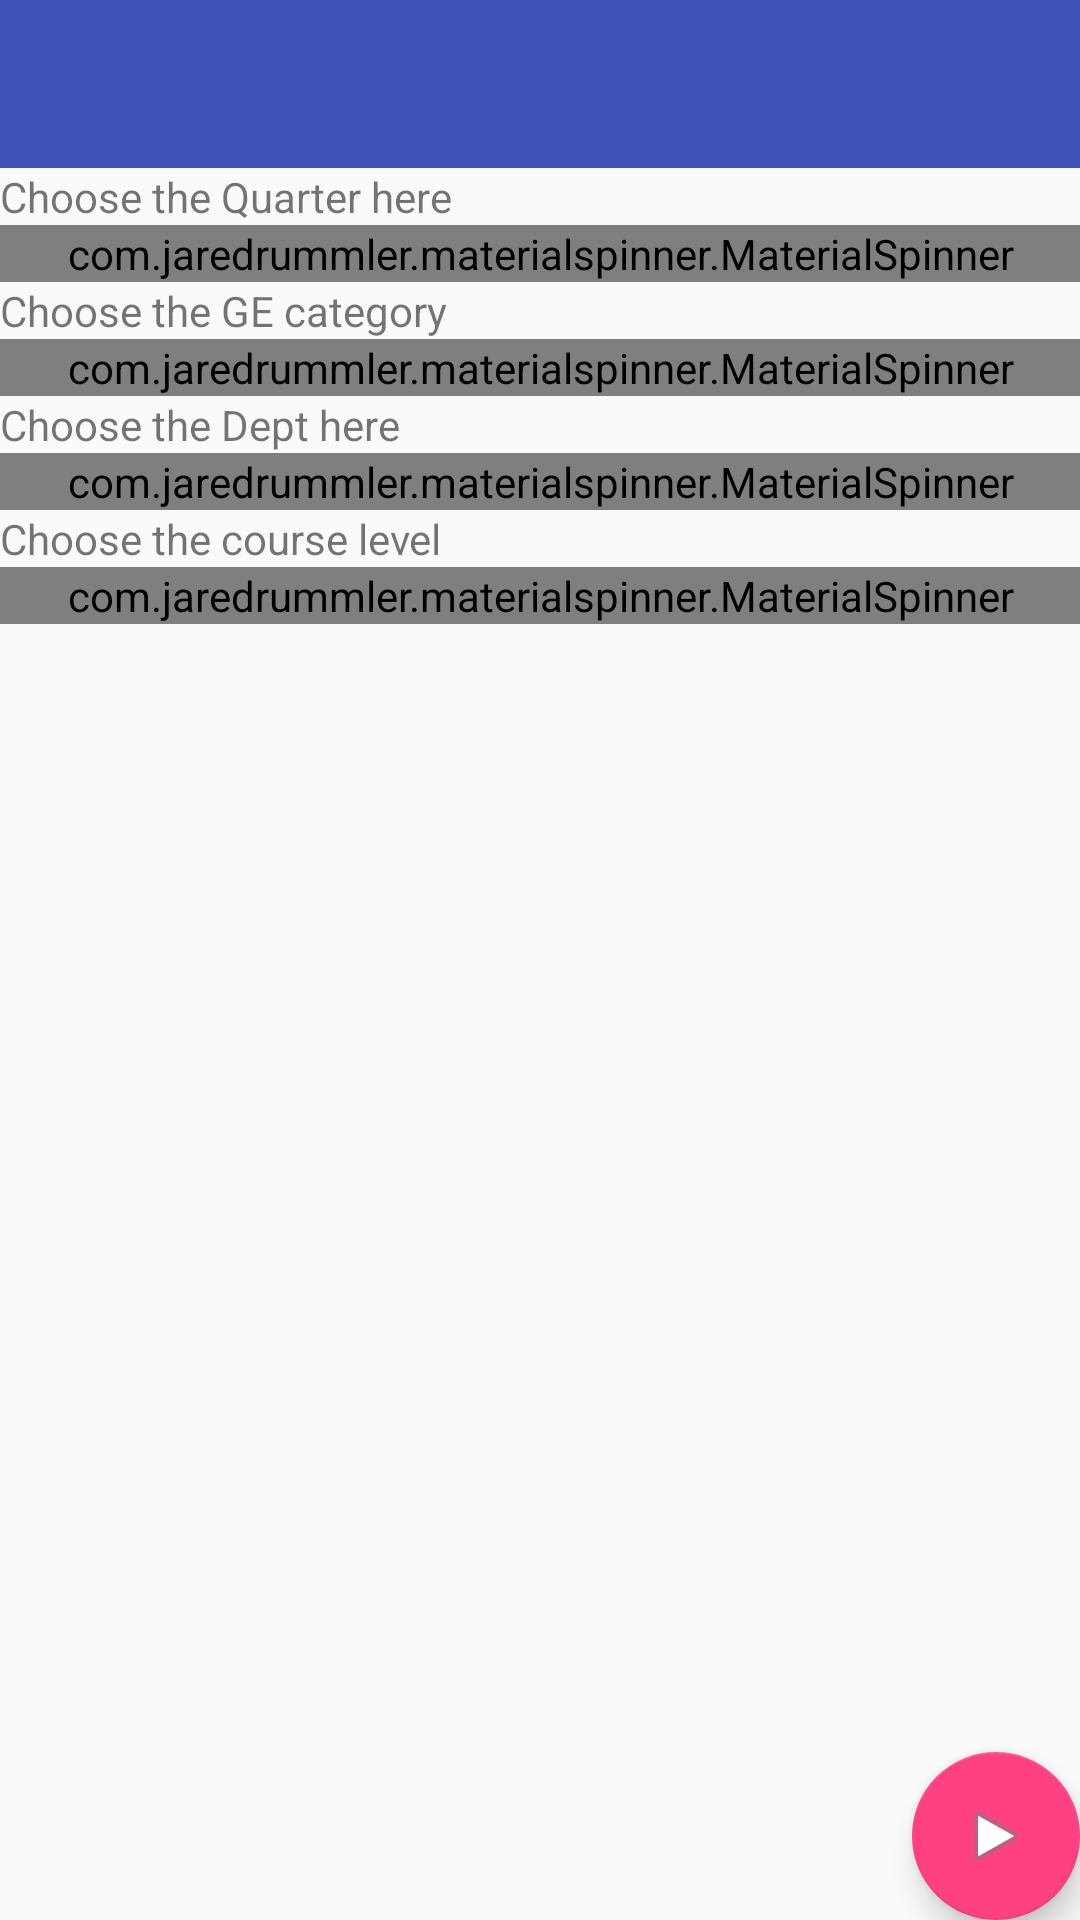

Named icons in this screenshot (1080w x 1920h) and their bounding boxes, (x1, y1, x2, y2):
play: (912, 1752, 1080, 1920)
